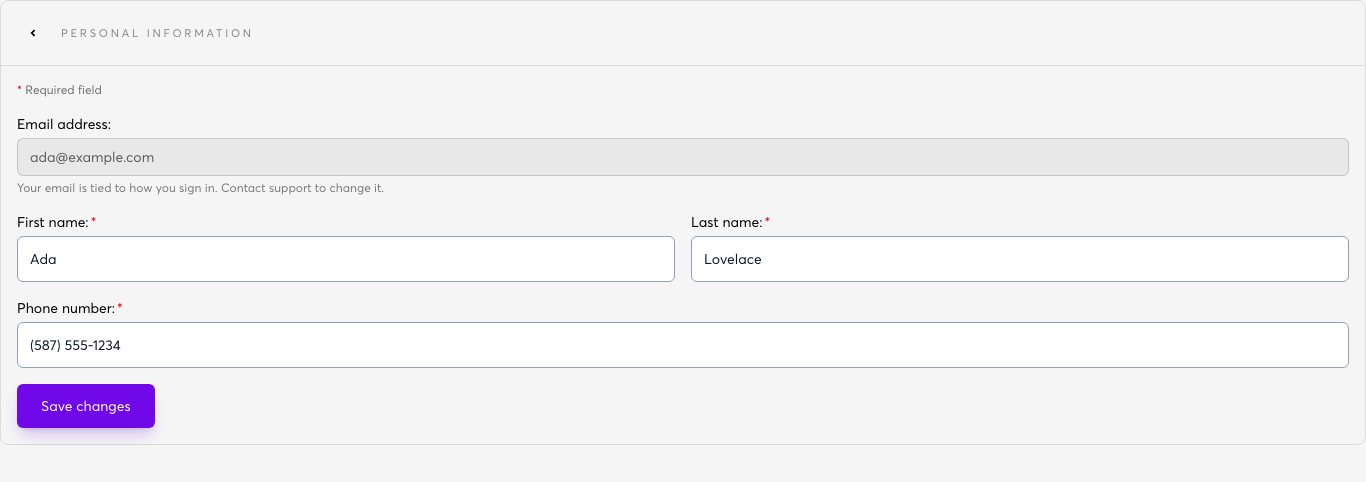
Test: blocks Phone number: 58755512345 before any request
Replace the text in the field labelled "Phone number:" with "58755512345" at {"x": 683, "y": 345}, box [17,322,1349,368]
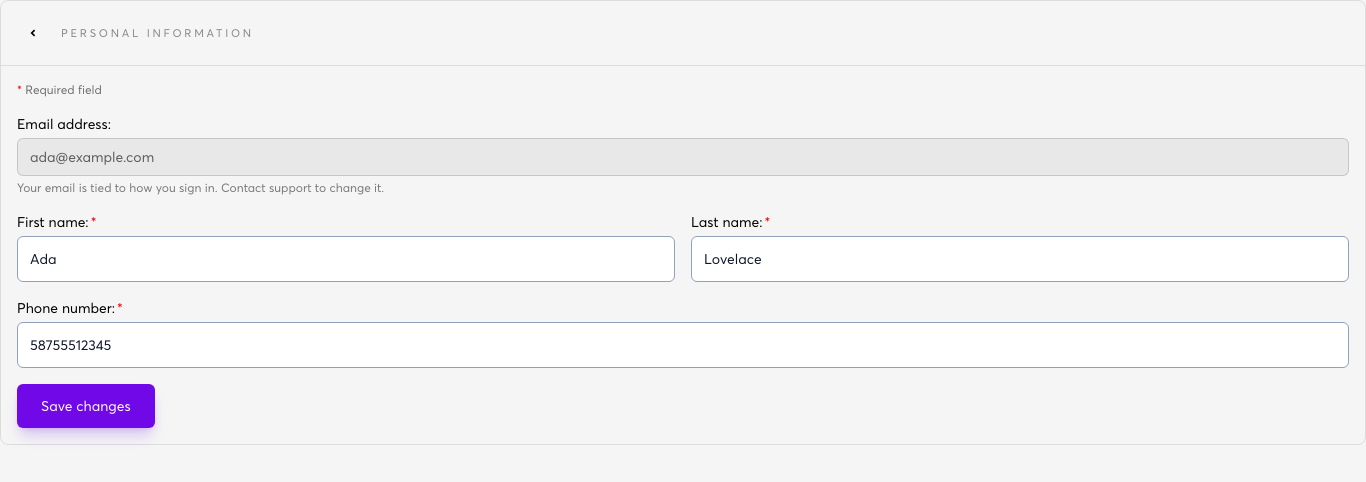
Click the button "Save changes" at {"x": 86, "y": 406}, box [17,384,155,428]
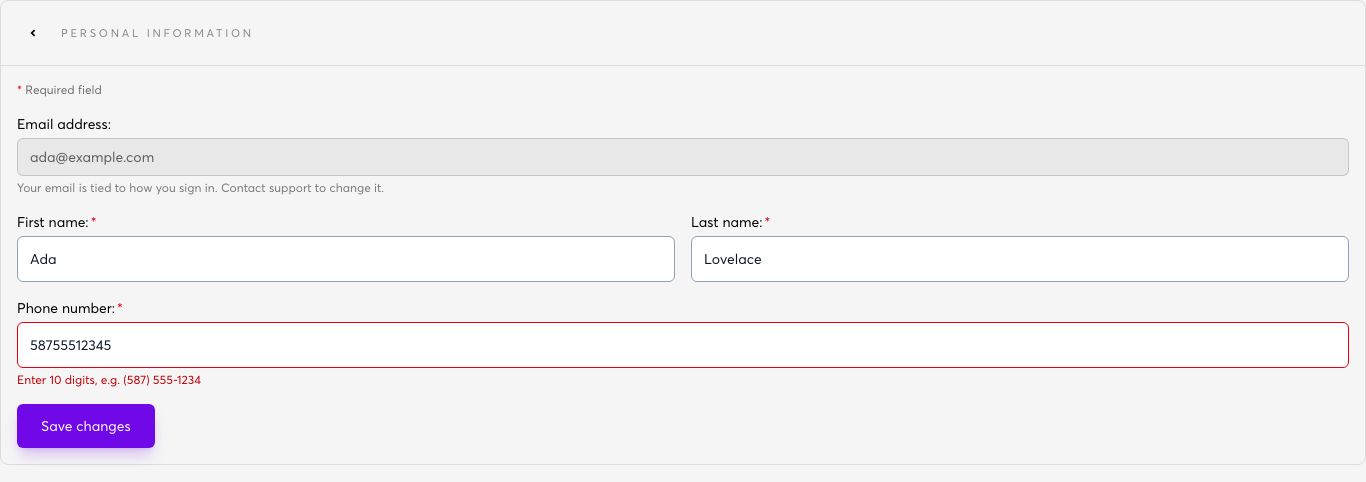
Result: the text "Enter 10 digits, e.g. (587) 555-1234" is shown at [17,372,201,387]
